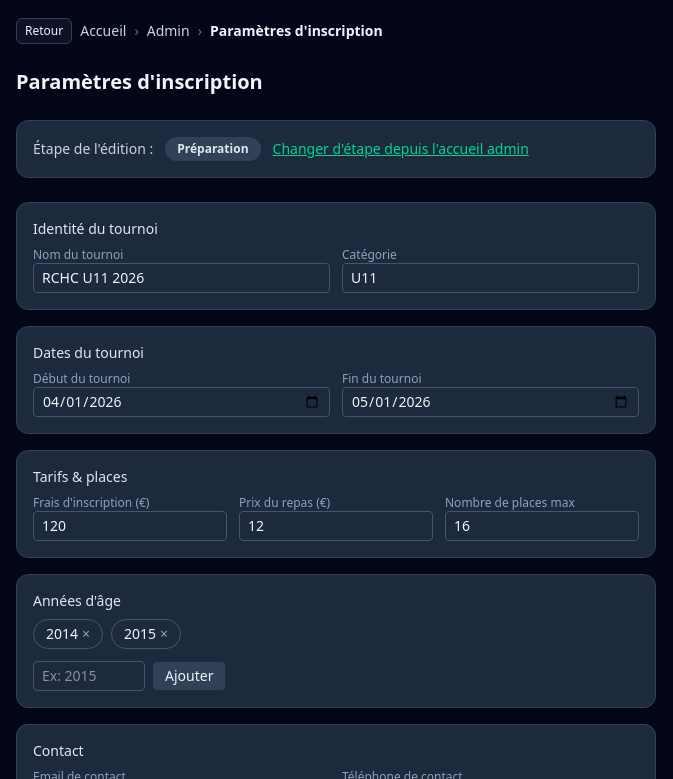
Scenario: ParametresInscriptionPage › bloque l'enregistrement quand la fin du tournoi est antérieure au début du tournoi
Type "2026-03-01" into the date field labelled "Fin du tournoi".
click(490, 402); type("2026-03-01")  # box top-left (342, 387), bottom-right (639, 417)
(page scrolled)
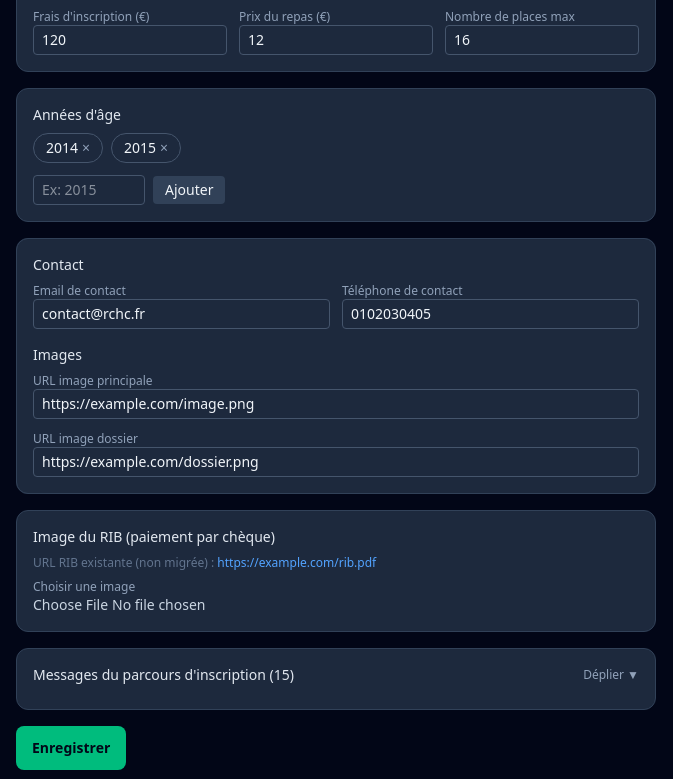
Click the button "Enregistrer".
click(71, 748)  # box top-left (16, 726), bottom-right (126, 770)
(page scrolled)
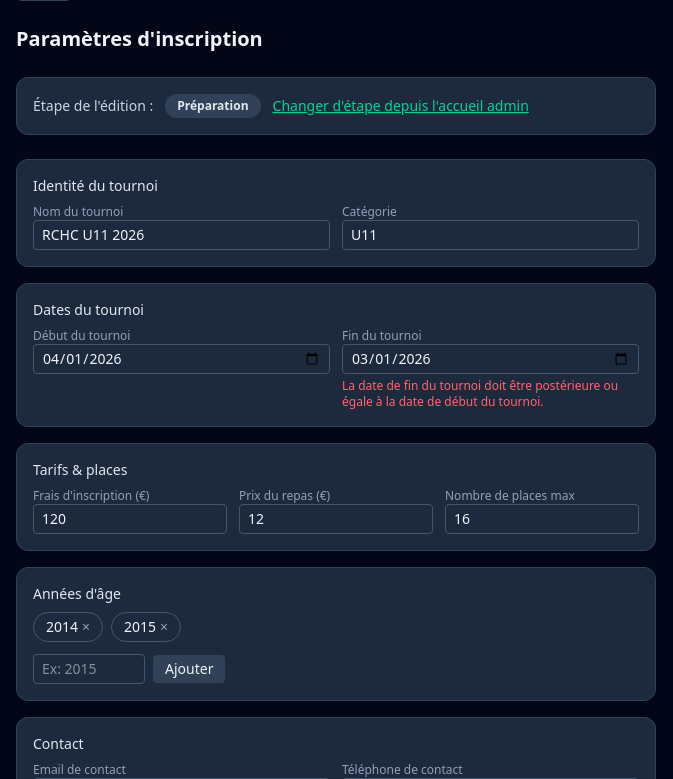
Expected: the text "La date de fin du tournoi doit être postérieure ou égale à la date de début du tournoi." is shown, top-left (342, 377), bottom-right (618, 410)
